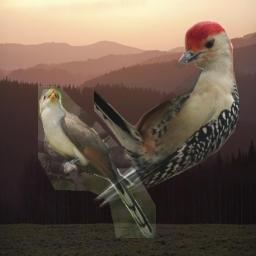Cuckoo: (38, 86, 156, 238)
Woodpecker: (94, 20, 239, 212)
